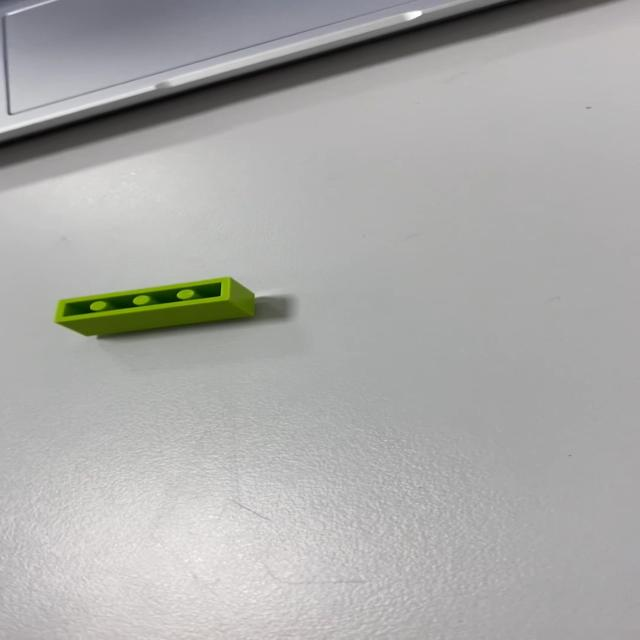C4x1x1: (52, 276, 257, 338)
